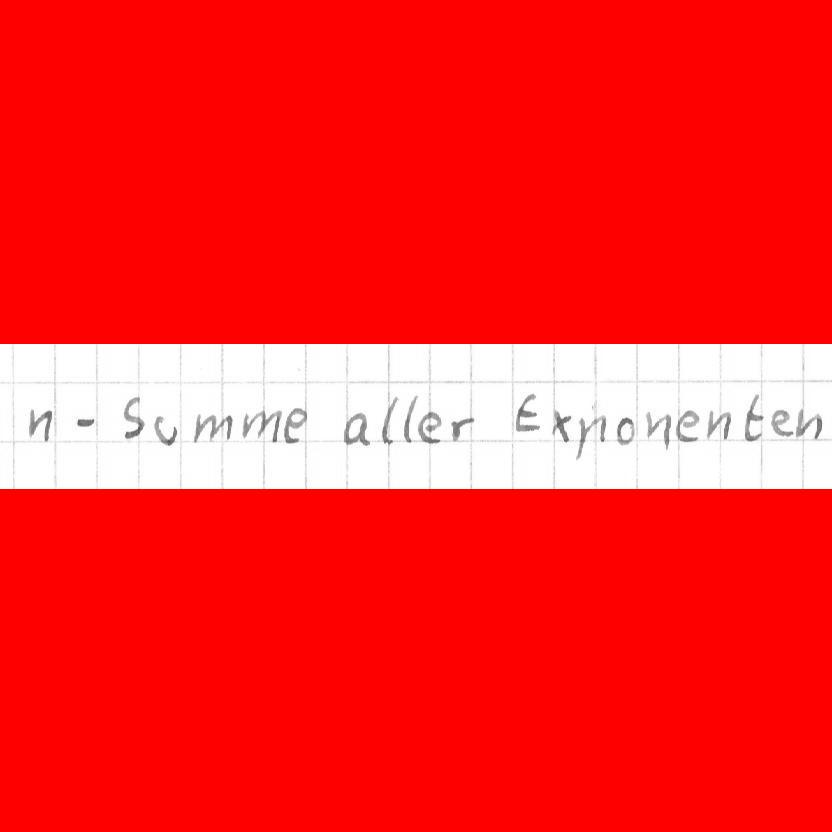Char: (571, 414, 605, 462), (240, 407, 282, 442), (190, 412, 234, 444), (514, 392, 543, 434), (644, 409, 672, 452), (121, 394, 146, 441), (742, 392, 765, 443), (341, 410, 371, 447), (282, 406, 309, 445), (26, 406, 54, 443), (379, 395, 399, 446), (703, 408, 732, 443), (416, 410, 443, 445), (548, 406, 572, 445), (795, 407, 824, 439), (674, 408, 700, 443), (153, 413, 178, 448), (402, 394, 418, 444), (449, 417, 476, 443), (615, 415, 636, 448), (770, 408, 793, 437), (74, 414, 99, 428)
